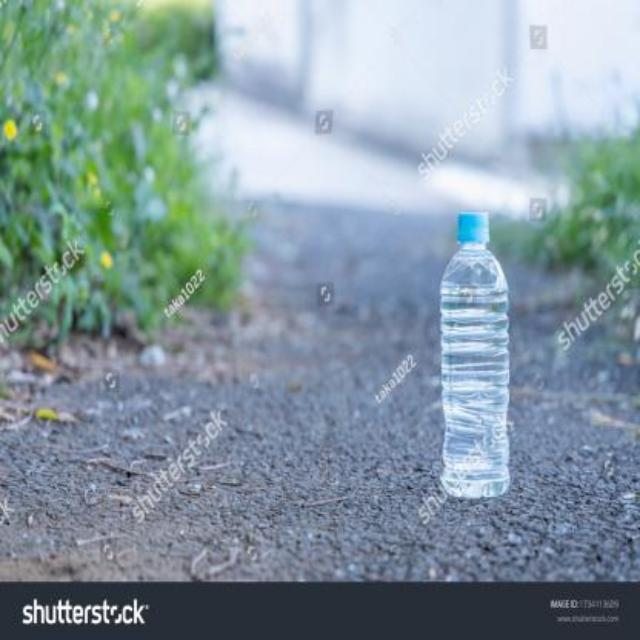plastic_bottle: (430, 202, 519, 504)
